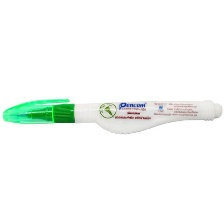correction_fluid: (1, 96, 223, 134)
